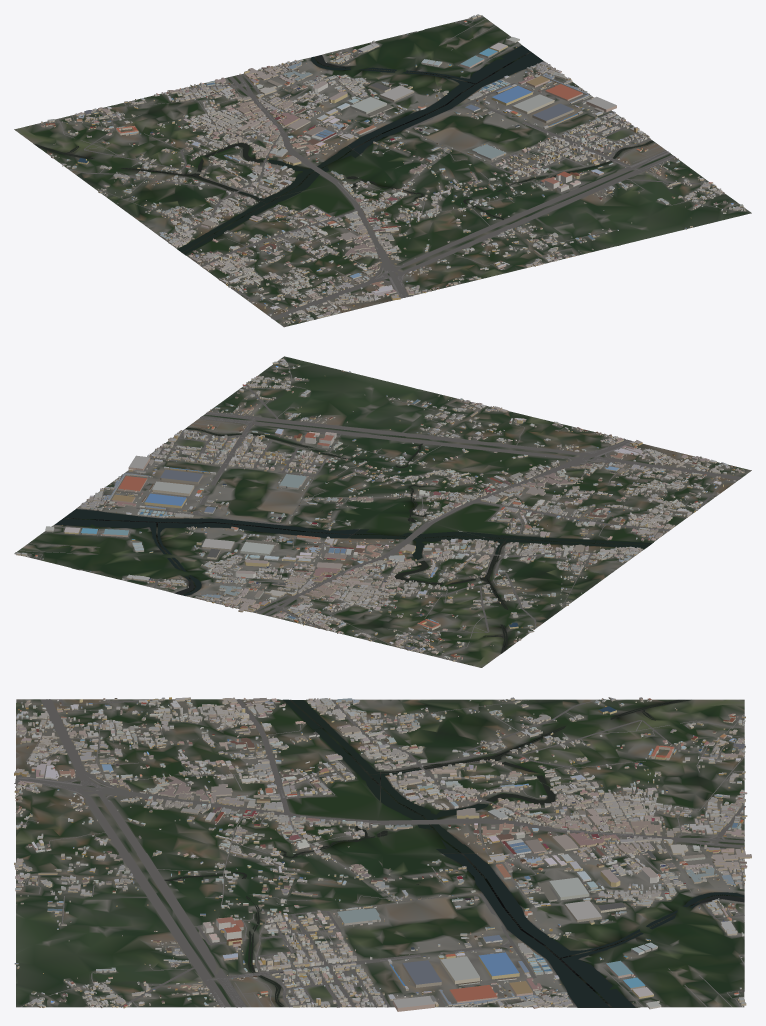
The picture shows the model from 3 angles, top to bottom: view 1: azimuth 30°, elevation 25°; view 2: azimuth 150°, elevation 25°; view 3: azimuth 270°, elevation 25°; orthographic projection. The views are drawn at different scales.
Visible parts, largest first — view 1: ground, buildings, roads, water; view 2: ground, buildings, roads, water; view 3: ground, buildings, roads, water.
Part boxes in pixels (x1,y1,x2,y2): ground: (14,15,751,327); buildings: (40,14,745,324); roads: (35,16,749,320); water: (34,45,653,254); ground: (14,356,751,667); buildings: (15,358,744,661); roads: (19,357,742,662); water: (55,428,652,653); ground: (16,699,744,1007); buildings: (14,697,751,1011); roads: (14,699,745,1007); water: (164,699,744,1007).
Bounding box in the file's own units: 2853 × 38.13 × 2837.
